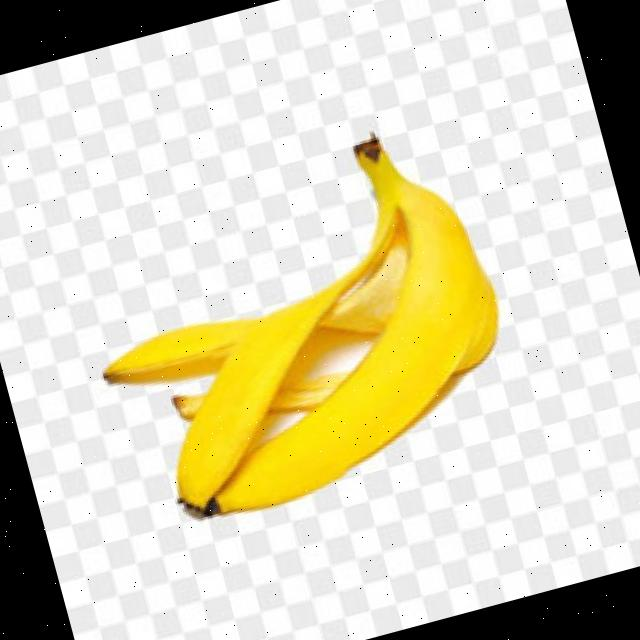banana-peel: (59, 110, 534, 540)
